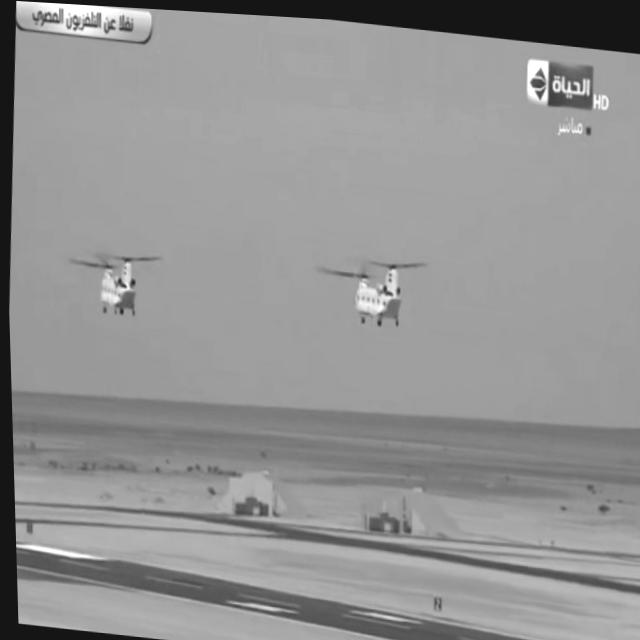helikopter: (64, 233, 176, 339), (316, 235, 426, 338)
